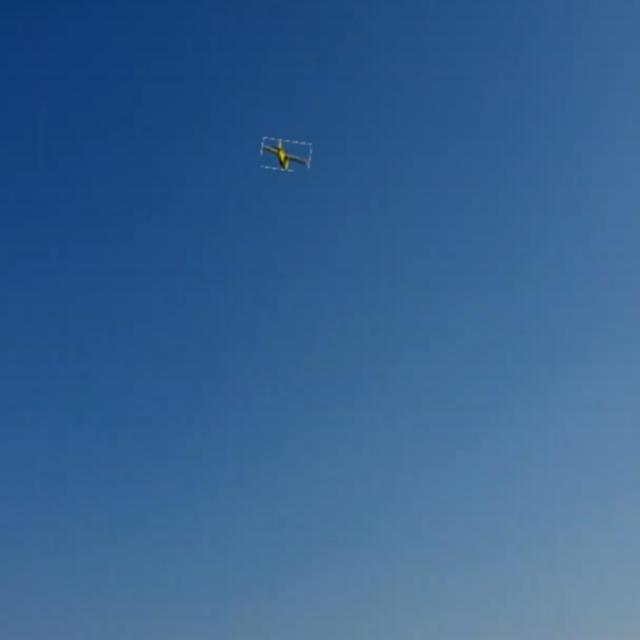plane: (260, 135, 314, 172)
